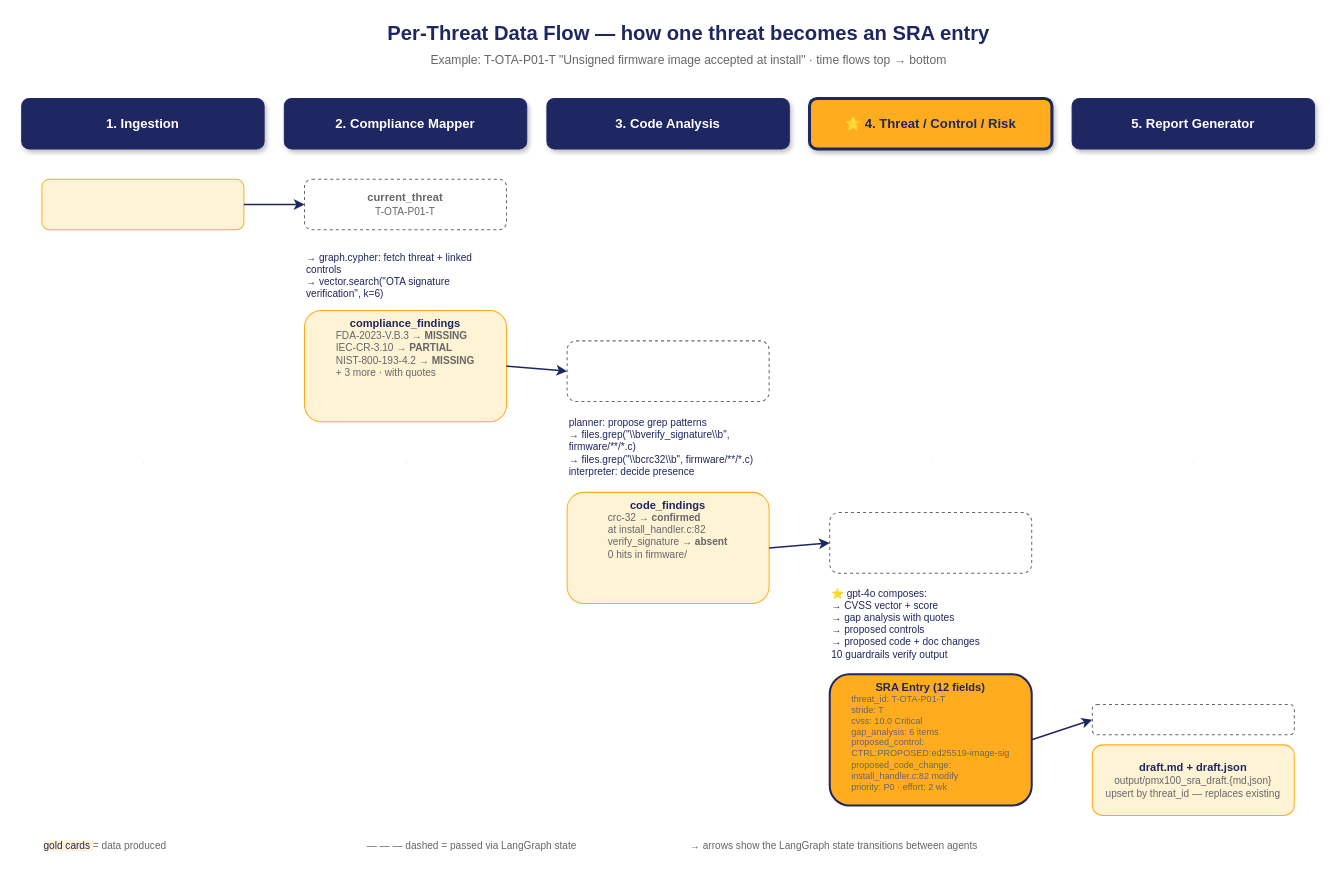
Image size: 1338x873. Some labels were removed from this diagram. Here are the shapes that lost their labels. From the top down, the centre of each, then its label:
(x=142, y=204): threat_queue ["T-OTA-P01-T", ...]
(x=667, y=370): controls to verify CTRL:crc-32-image-check CTRL:verify-signature (expected)
(x=930, y=542): evidence bundle threat + compliance_findings + code_findings + firmware paths
(x=1192, y=719): pending_entry
